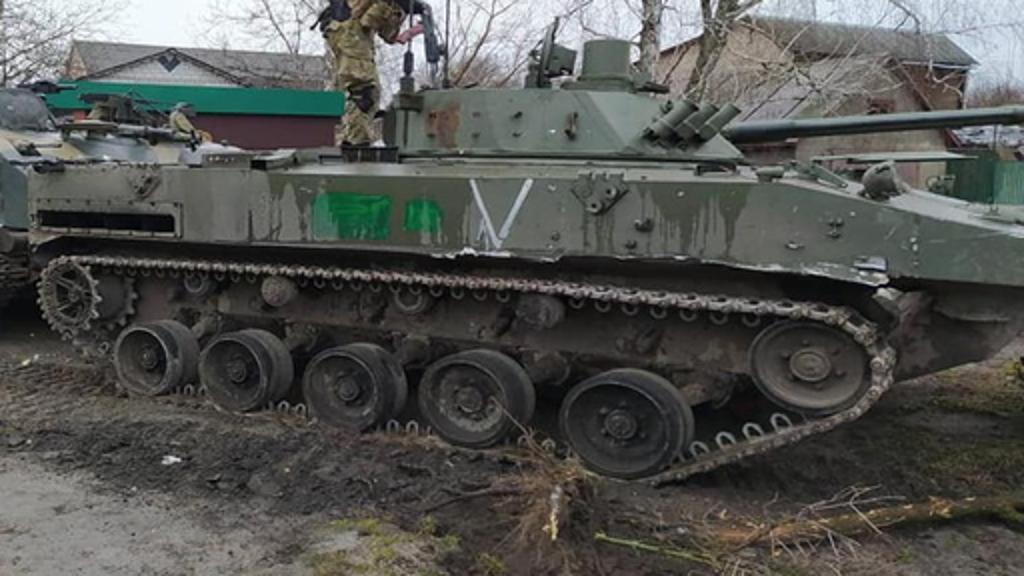APC-IFV: (26, 56, 1010, 486)
